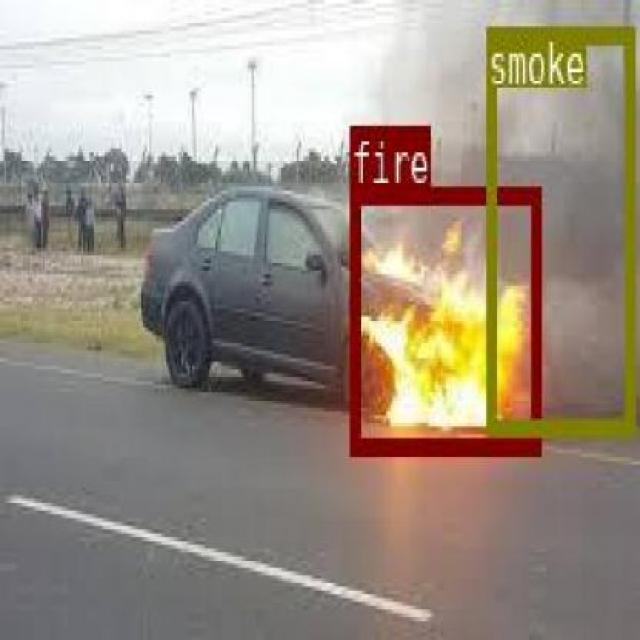Fire: (348, 186, 540, 452)
Smoke: (485, 22, 633, 432)
